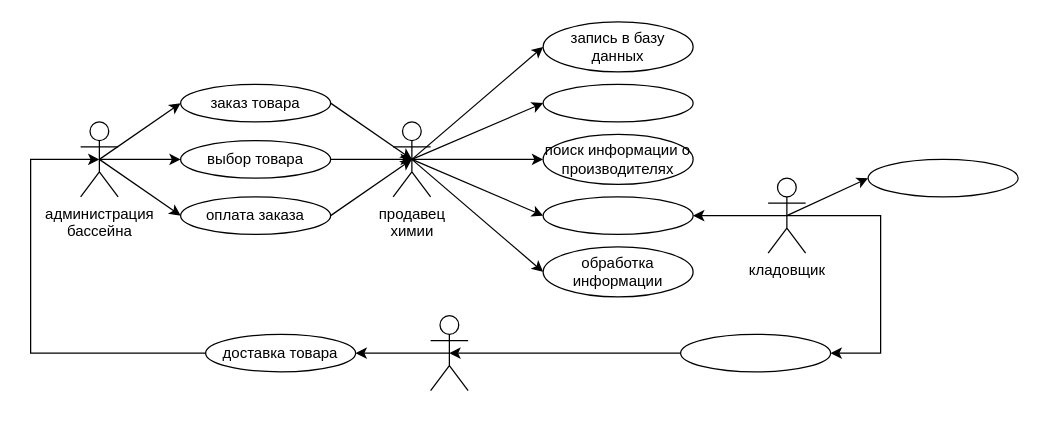
Image size: 1040x439. Some labels were removed from this diagram. The centre of each missing label's shape, as x and y in pixels:
"выдача товара" belongs at (755,352).
"каталог товаров" belongs at (617,102).
"курьер" belongs at (448,352).
"работа с заказами" belongs at (617,215).
"учет товара" belongs at (942,177).
